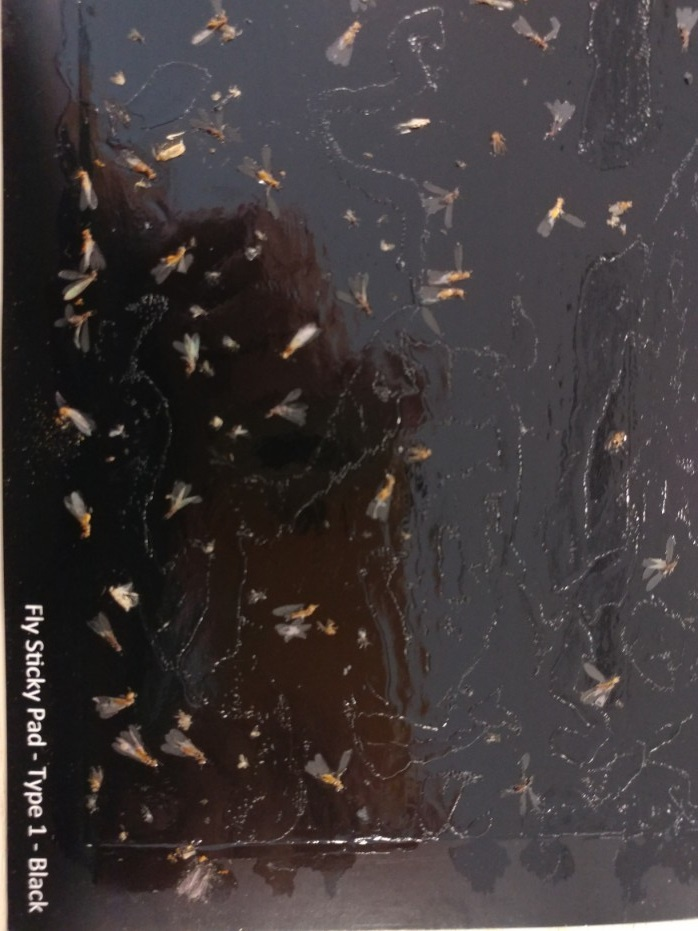termite: (412, 239, 478, 285), (364, 466, 404, 533), (90, 685, 146, 715), (418, 285, 478, 312)
